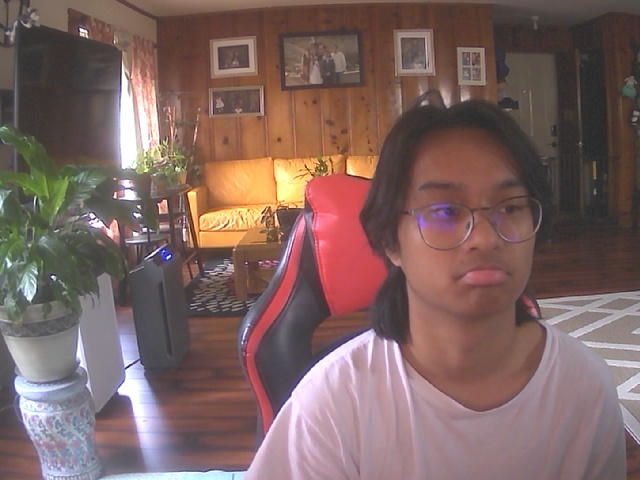sad: (384, 107, 547, 324)
